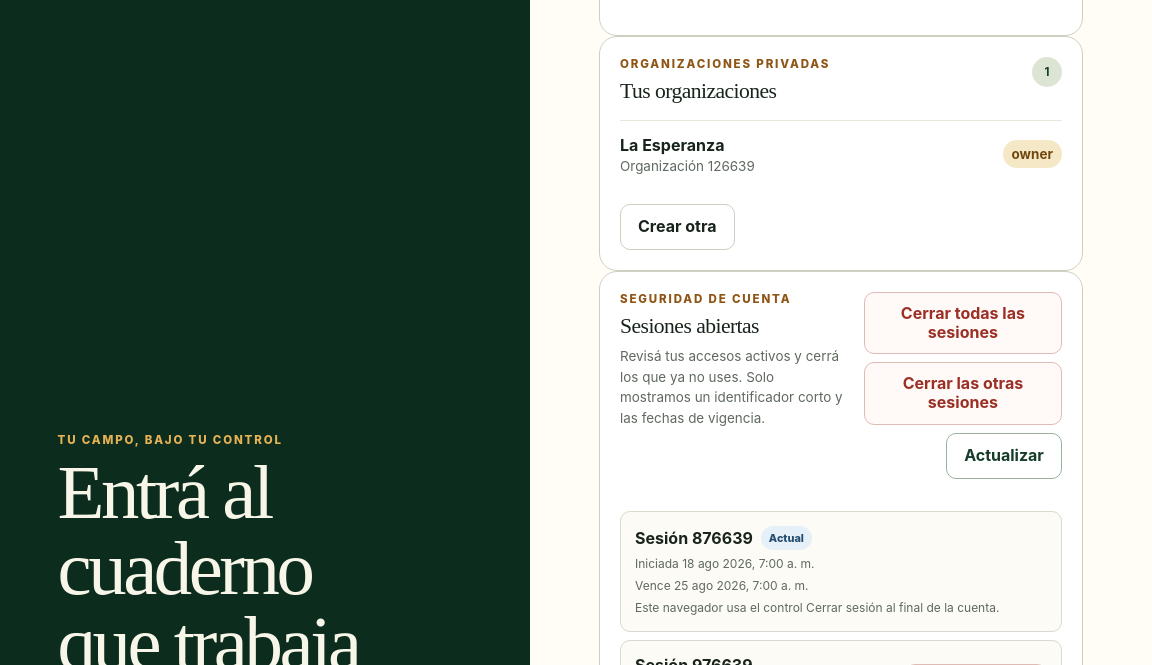
IdentityHub own session management › resumes the exact global intent after a manage_sessions step-up challenge
(page scrolled)
Click the button "Cerrar todas las sesiones" at [963, 323], box [864,292,1062,354]
(page scrolled)
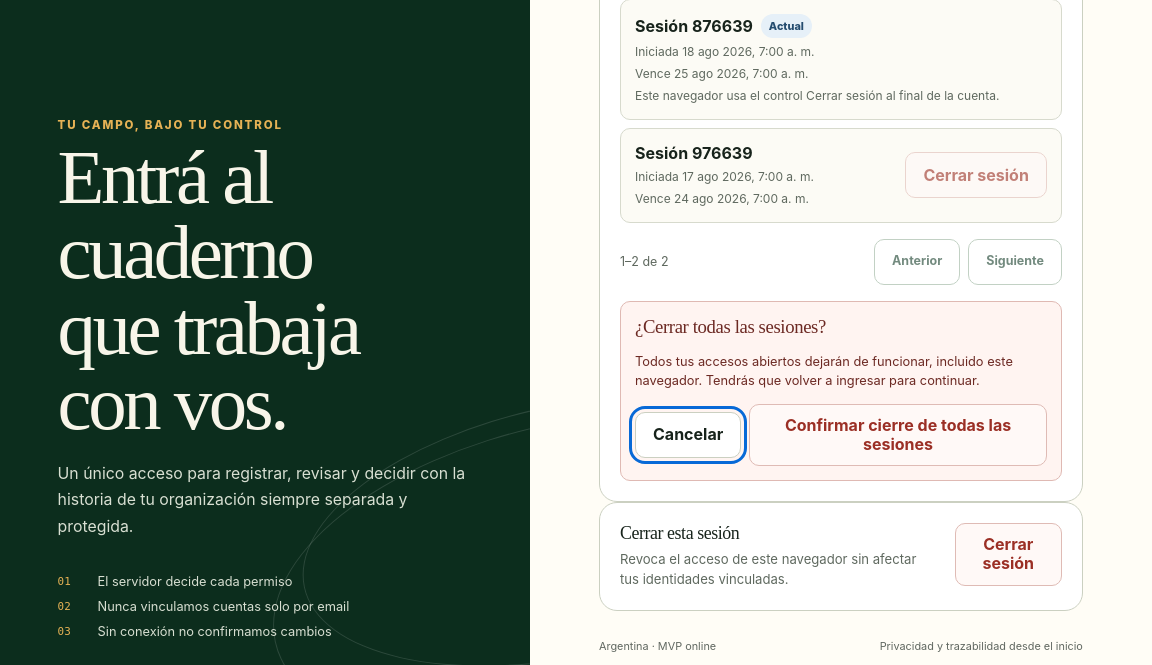
Click the button "Confirmar cierre de todas las sesiones" at [898, 435], box [749,404,1047,466]
(page scrolled)
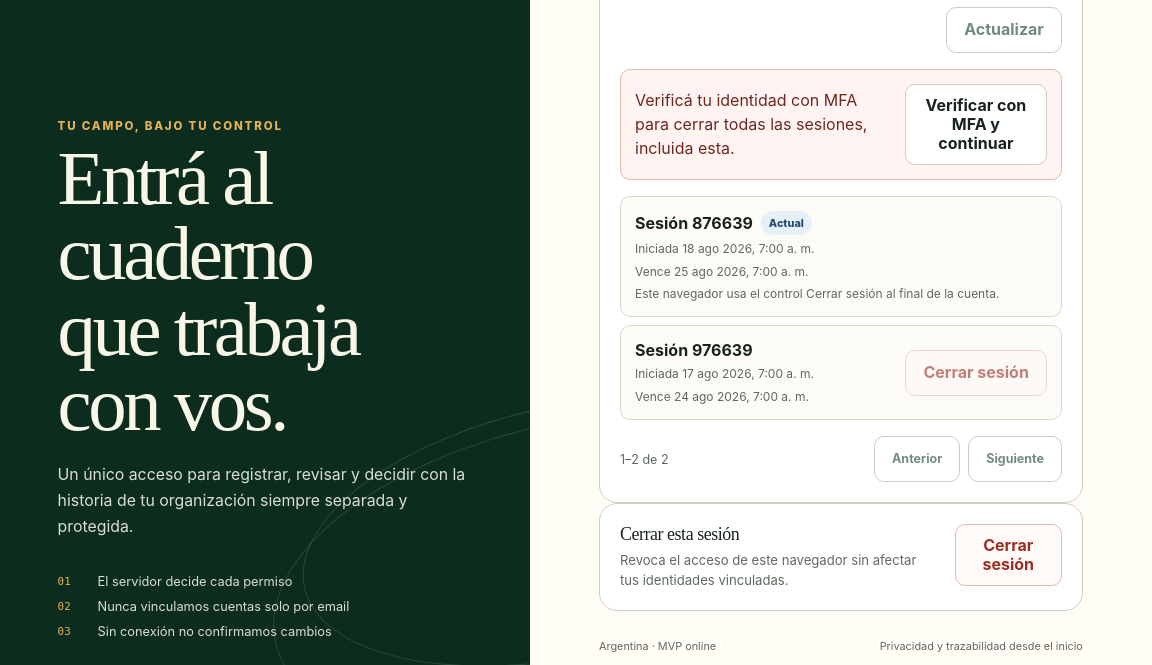
Result: the message shows "incluida esta" at [635,90,868,158]
Click the button "Verificar con MFA y continuar" at [976, 124], box [905,84,1047,165]
(page scrolled)
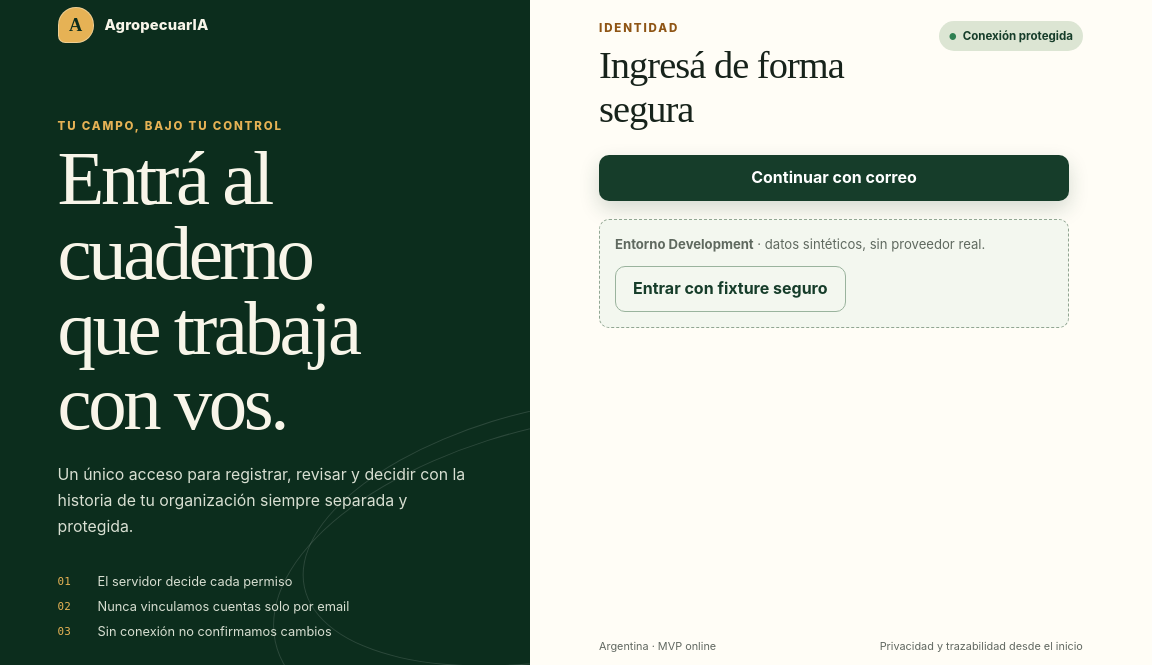
Result: the heading "Ingresá de forma segura" is shown at [599,44,844,130]
